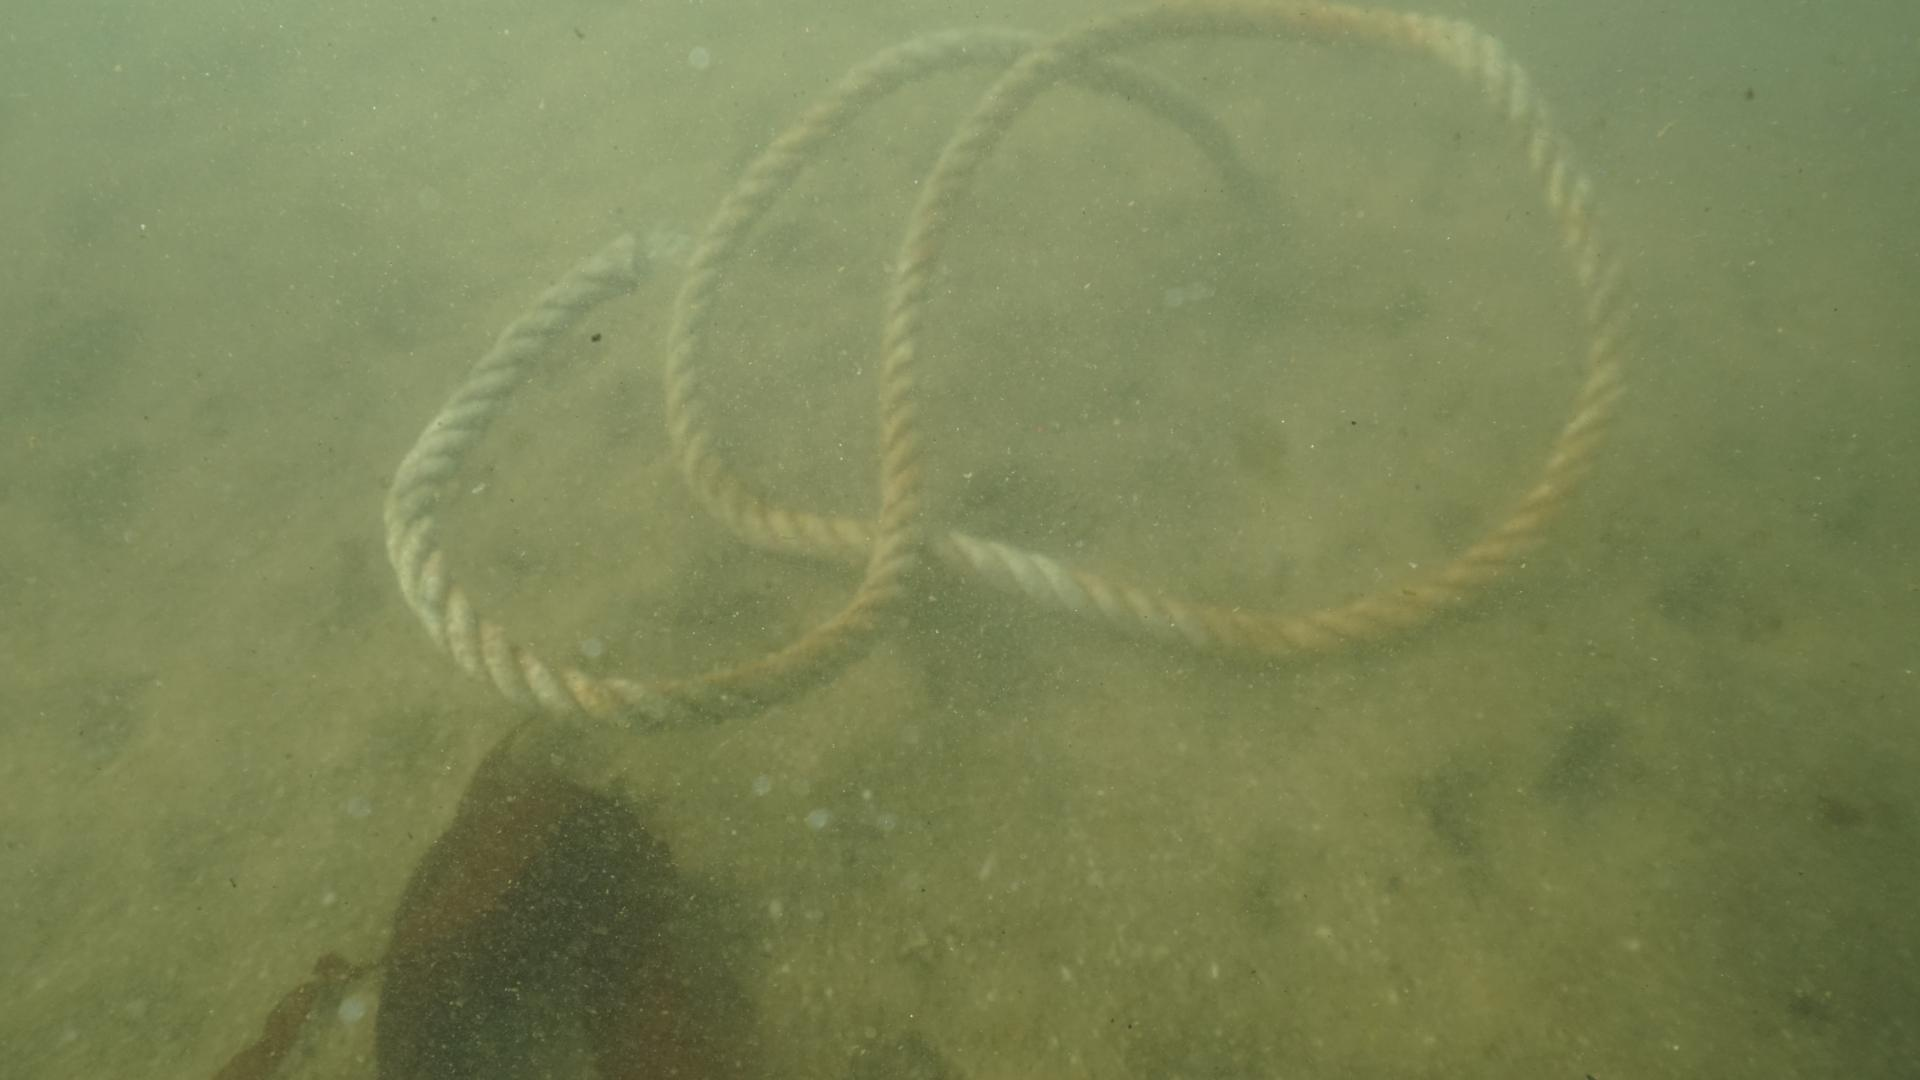bundle of ropes: (372, 0, 1647, 738)
